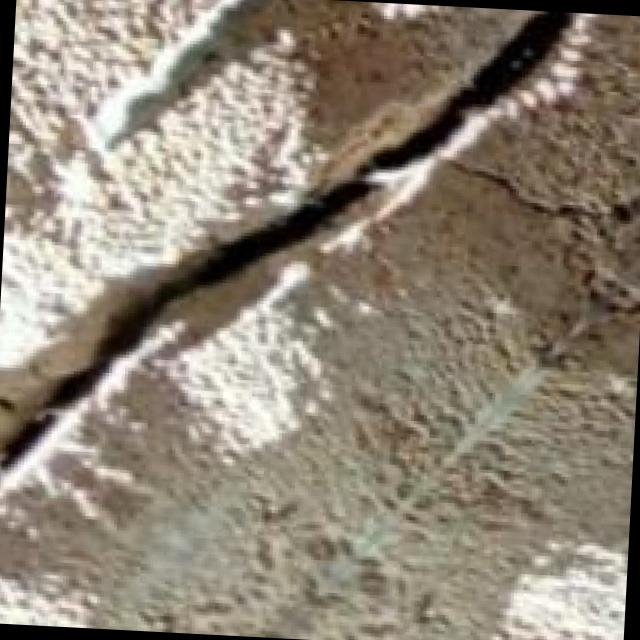crack: (0, 0, 592, 554)
